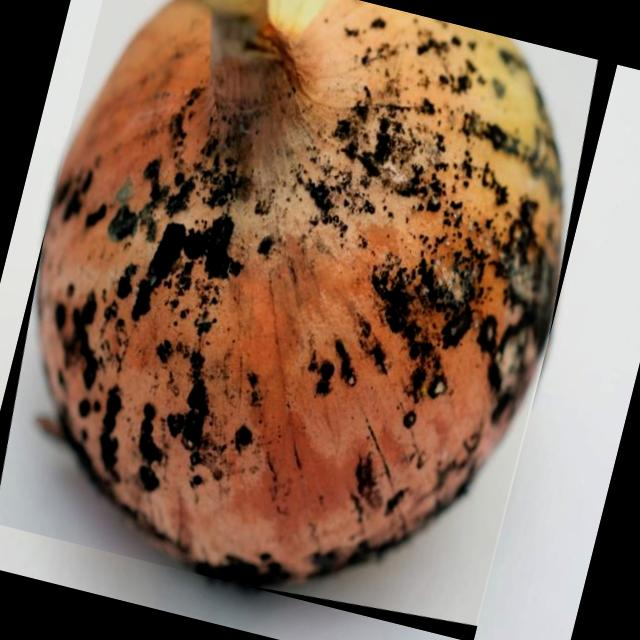mould: (39, 0, 562, 583)
